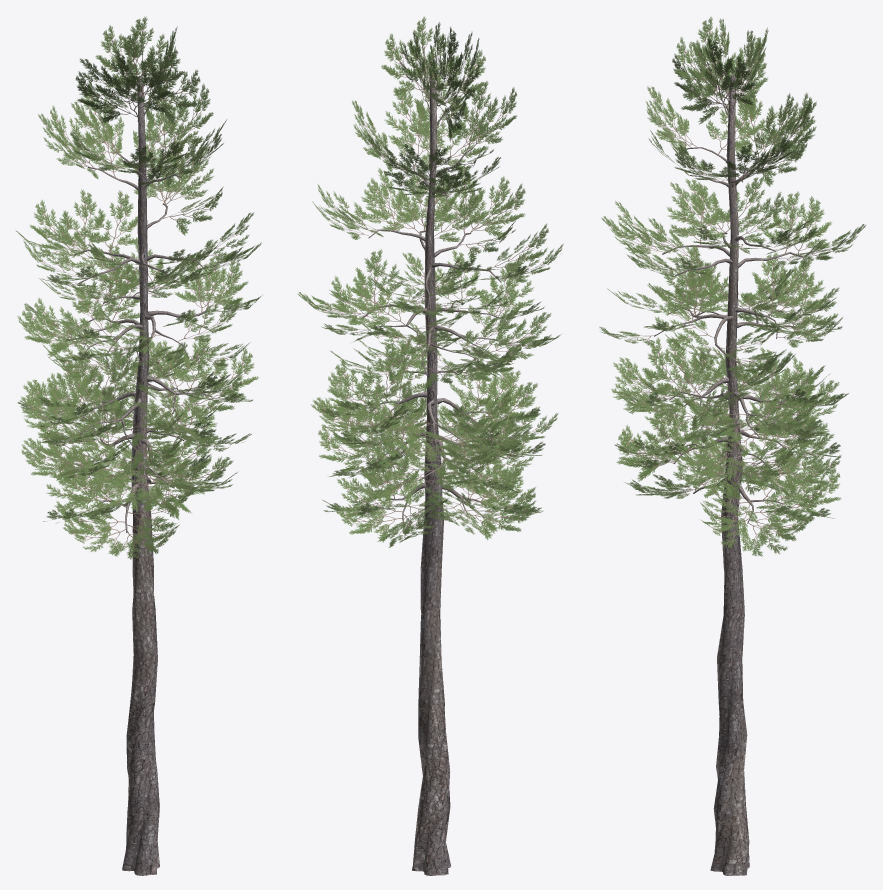
The model's file is pine3.glb.
The picture shows the model from 3 angles, left to right: view 1: azimuth 30°, elevation 25°; view 2: azimuth 150°, elevation 25°; view 3: azimuth 270°, elevation 25°; orthographic projection.
Visible parts, largest first — view 1: Tree_1.002, Tree_1.001; view 2: Tree_1.002, Tree_1.001; view 3: Tree_1.002, Tree_1.001.
Part boxes in pixels (x1,y1,x2,y2): Tree_1.002: (15,16,262,559); Tree_1.001: (74,76,212,875); Tree_1.002: (297,16,563,547); Tree_1.001: (362,79,501,875); Tree_1.002: (599,16,865,556); Tree_1.001: (654,75,802,875).
Size of the model in its own units: 4.57 by 16.06 by 4.71.
2 materials, 2 textured.
